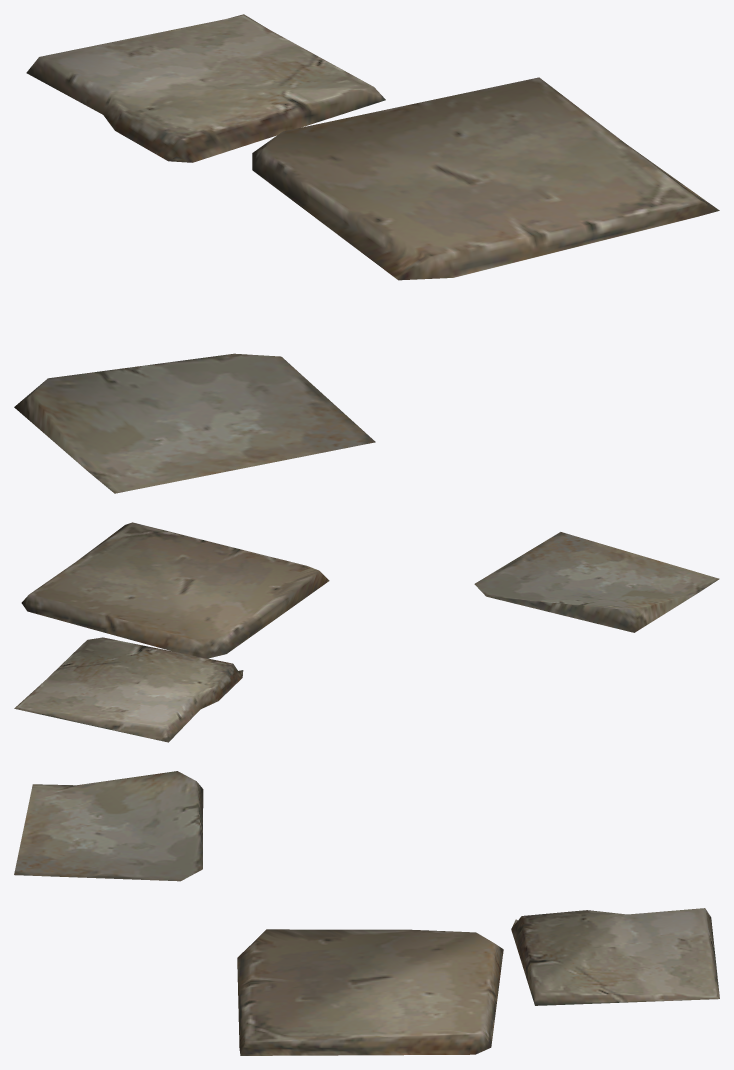
File: nashgar_rubble_tile_01.FBX
The picture shows the model from 3 angles, top to bottom: view 1: azimuth 30°, elevation 25°; view 2: azimuth 150°, elevation 25°; view 3: azimuth 270°, elevation 25°; orthographic projection. The views are drawn at different scales.
Visible parts, largest first — view 1: nashgar_rubble_tile_01; view 2: nashgar_rubble_tile_01; view 3: nashgar_rubble_tile_01.
Part boxes in pixels (x1,y1,x2,y2): nashgar_rubble_tile_01: (14, 14, 719, 493); nashgar_rubble_tile_01: (14, 522, 719, 742); nashgar_rubble_tile_01: (14, 771, 719, 1055).
Size of the model in its own units: 3.87 by 0.1239 by 4.25.
